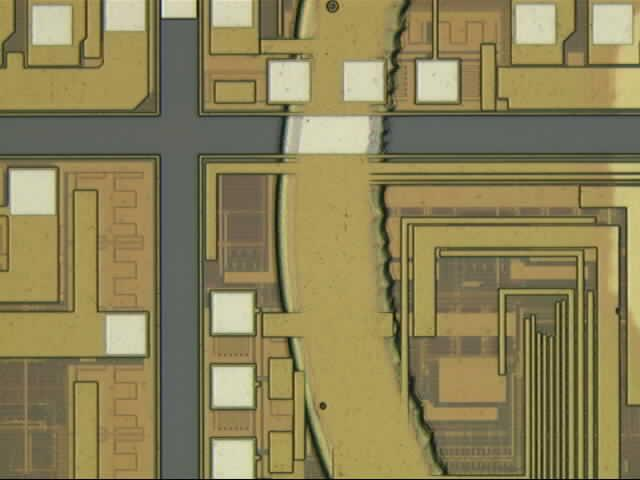COATING BAD: (274, 1, 448, 480)
